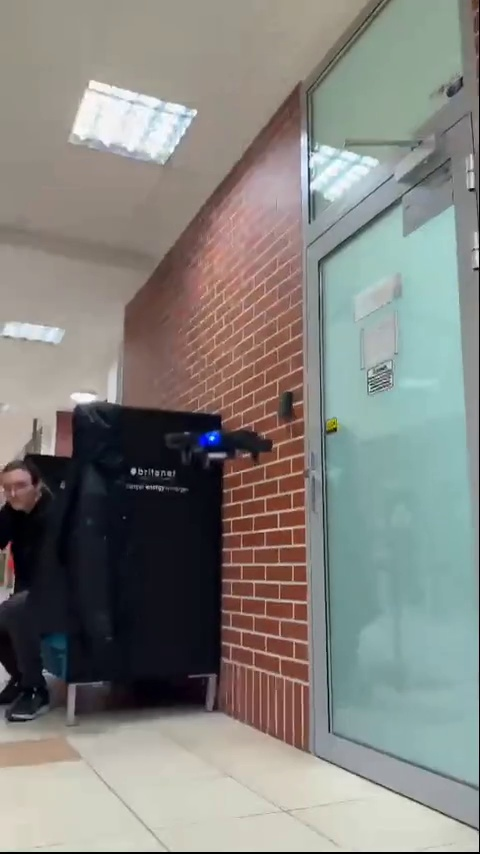drone: (164, 427, 280, 470)
no vest: (0, 461, 74, 734)
